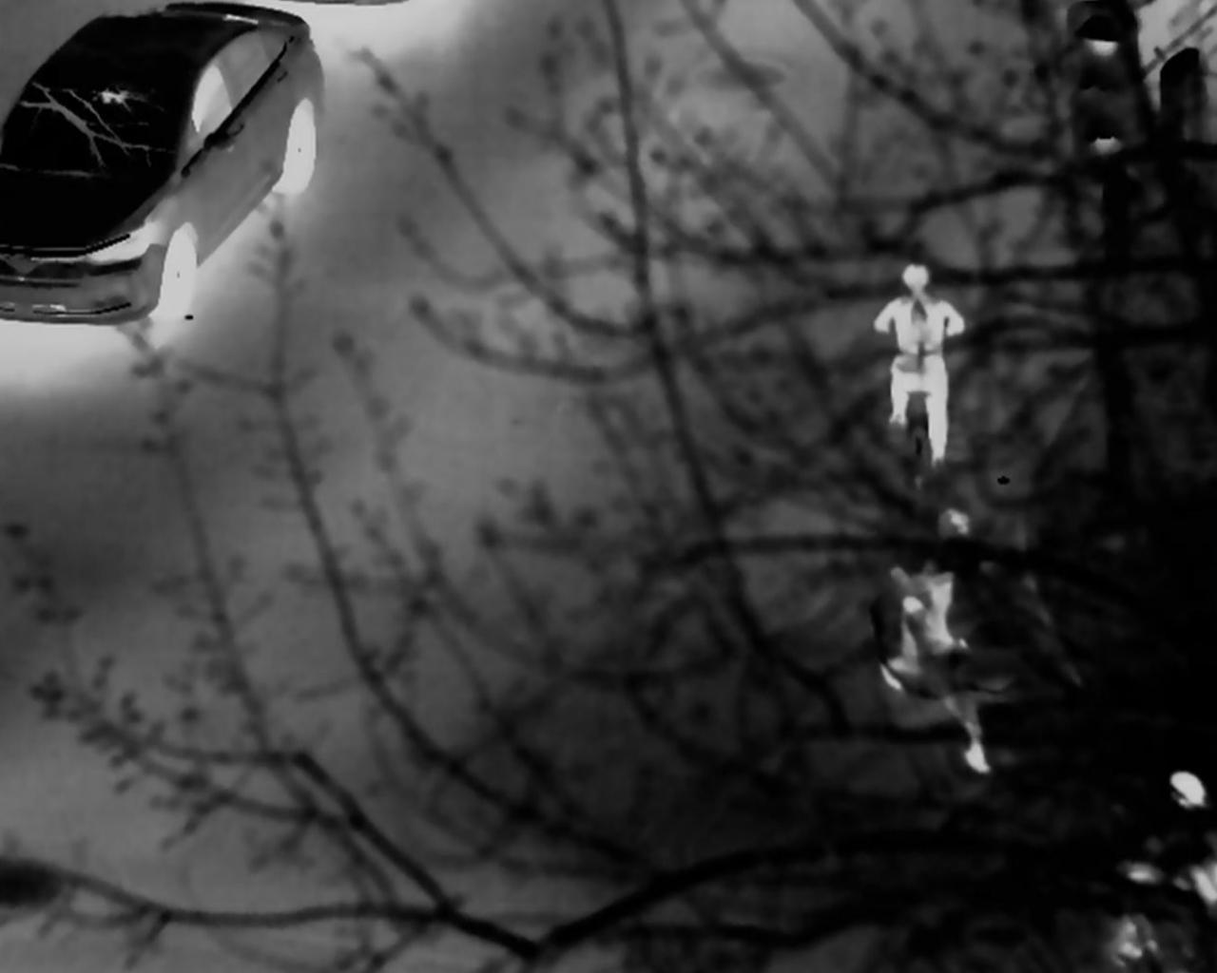person: (871, 507, 989, 735), (879, 271, 969, 467), (1140, 770, 1217, 908)
